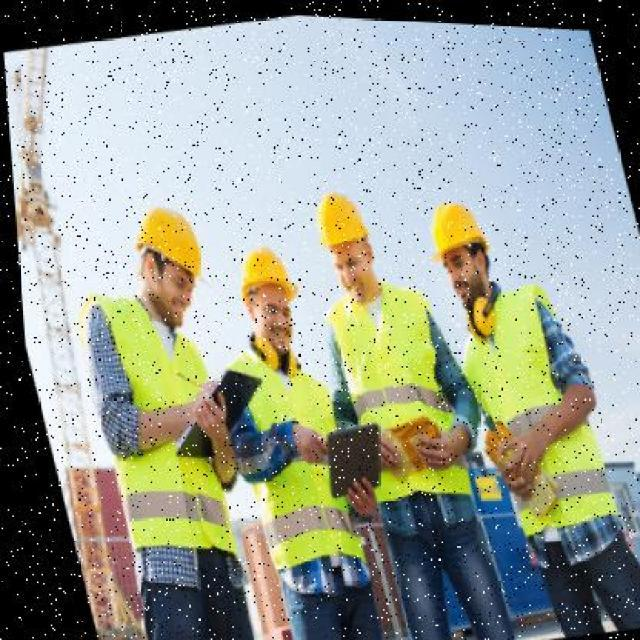helmet: (114, 182, 213, 296), (408, 188, 489, 260), (305, 175, 375, 255), (225, 235, 299, 305)
vest: (69, 297, 242, 607), (440, 274, 612, 550), (219, 326, 371, 588), (319, 280, 465, 518)
